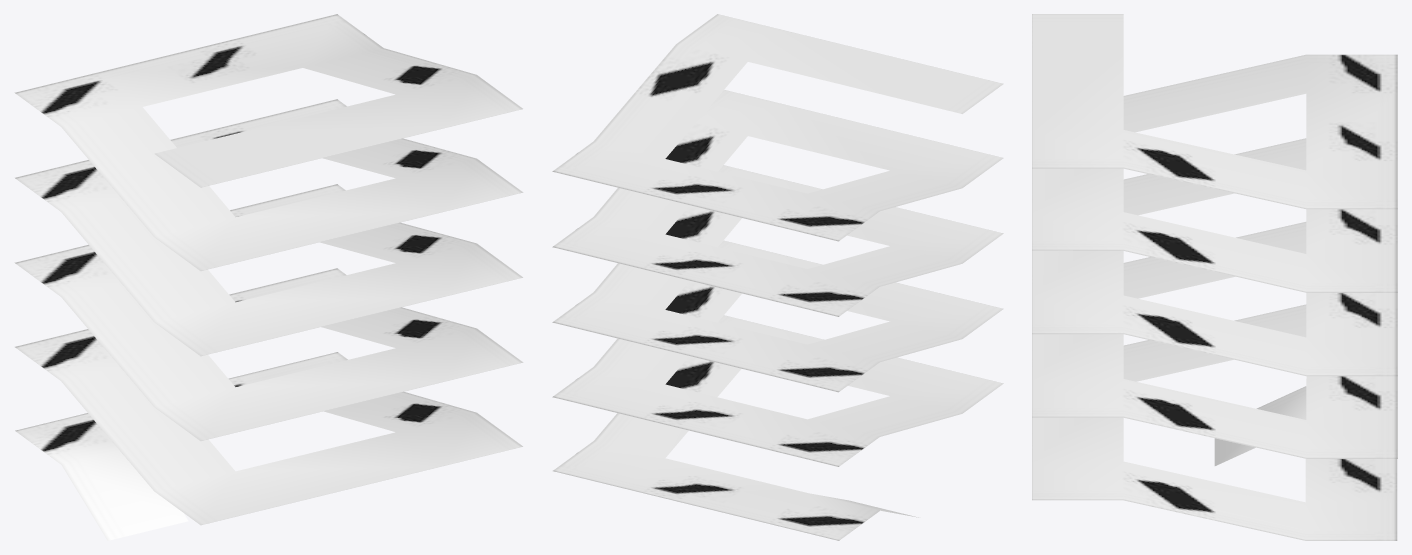
Rendered from yin2.obj.
The picture shows the model from 3 angles, left to right: view 1: azimuth 30°, elevation 25°; view 2: azimuth 150°, elevation 25°; view 3: azimuth 270°, elevation 25°; orthographic projection. The views are drawn at different scales.
Visible parts, largest first — view 1: yin2; view 2: yin2; view 3: yin2.
Boxes of the visible parts, bbox=[...] form: yin2: bbox=[14, 14, 523, 540]; yin2: bbox=[552, 14, 1003, 540]; yin2: bbox=[1032, 14, 1397, 540].
Bounding box in the file's own units: 400 × 499 × 400.
